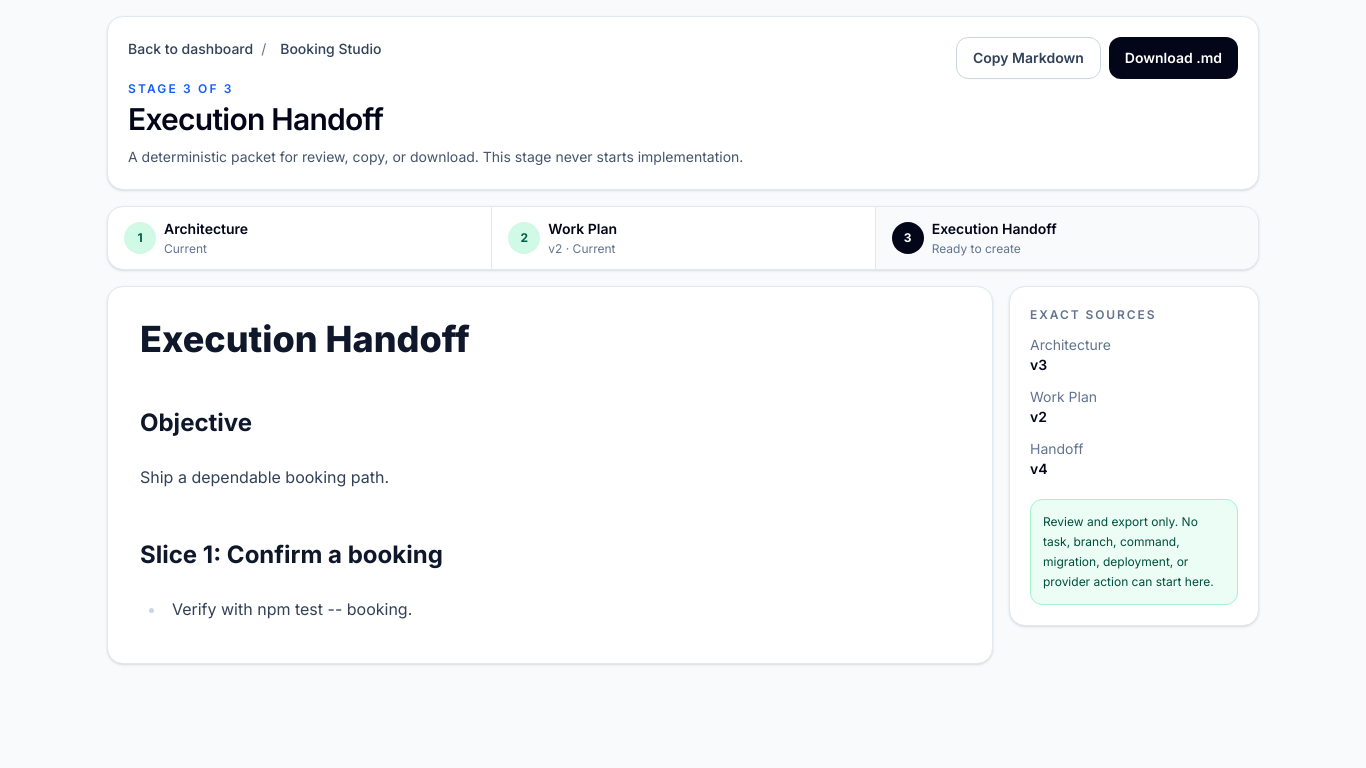
Test: ExecutionHandoffWorkspace › copies the exact rendered Markdown and confirms the action inline
Click the button "Copy Markdown".
click(1028, 58)  # box [956,37,1101,79]
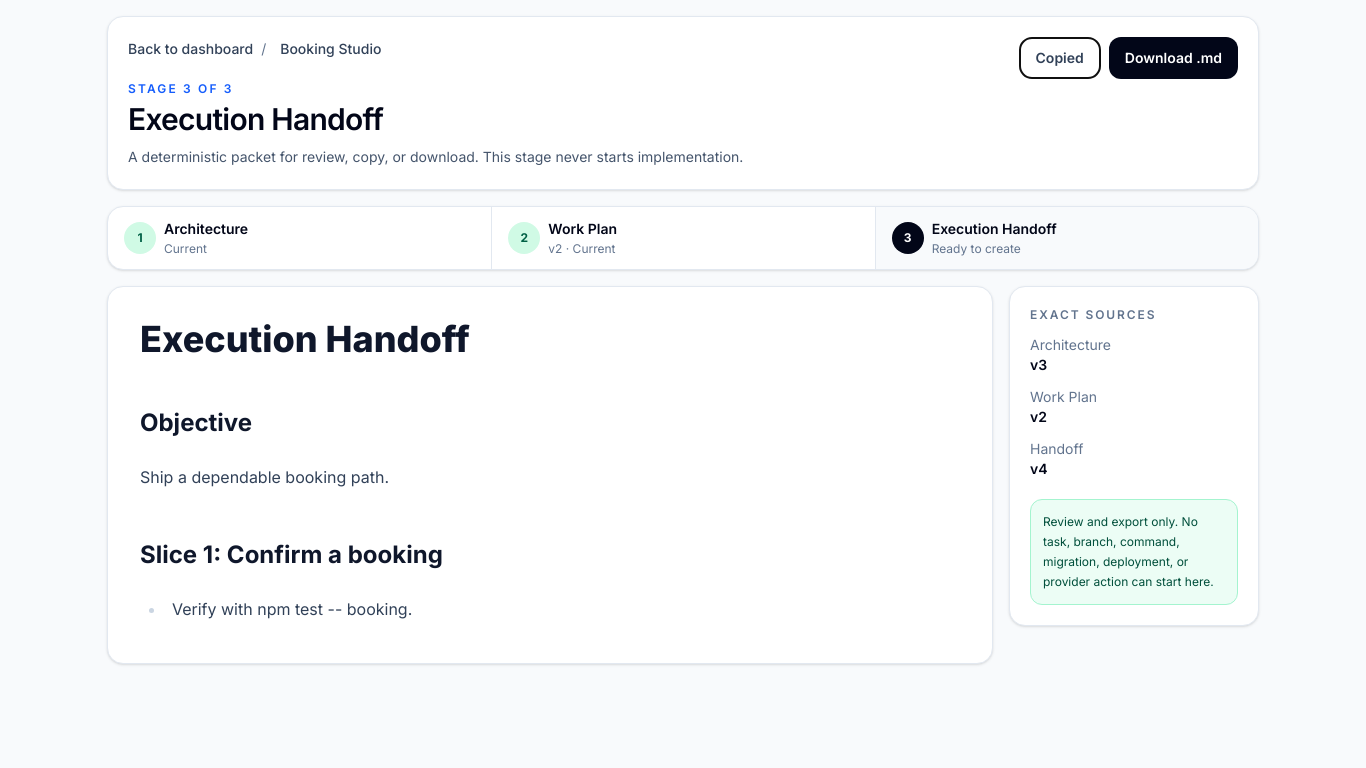
Now the button "Copied" is shown, box [1018,37,1101,79]
